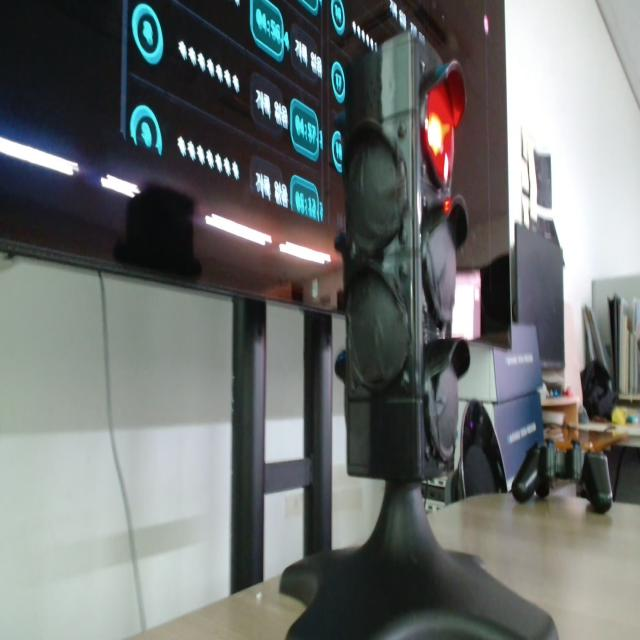red_light: (423, 83, 454, 186)
